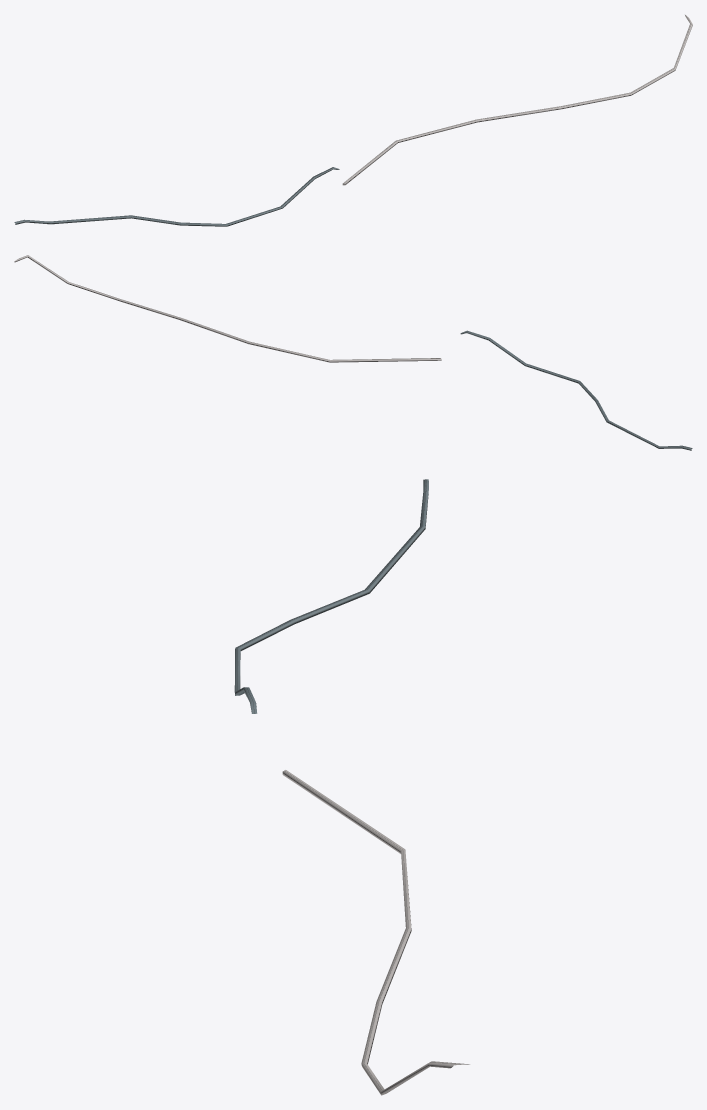
File: kd_stage_135b75_4_111_bounded_portal.glb
3 renders of one model, top to bottom at view 1: azimuth 30°, elevation 25°; view 2: azimuth 150°, elevation 25°; view 3: azimuth 270°, elevation 25°, orthographic. The views are drawn at different scales.
Visible parts, largest first — view 1: kd_stage_135b75_4_111_bounded_portal; view 2: kd_stage_135b75_4_111_bounded_portal; view 3: kd_stage_135b75_4_111_bounded_portal.
Part boxes in pixels (<box>): kd_stage_135b75_4_111_bounded_portal: <box>14,15,692,226</box>; kd_stage_135b75_4_111_bounded_portal: <box>14,255,692,450</box>; kd_stage_135b75_4_111_bounded_portal: <box>234,479,469,1095</box>.
Bounding box in the file's own units: 2.06 × 0.1244 × 0.3169.
1 material, 1 textured.
